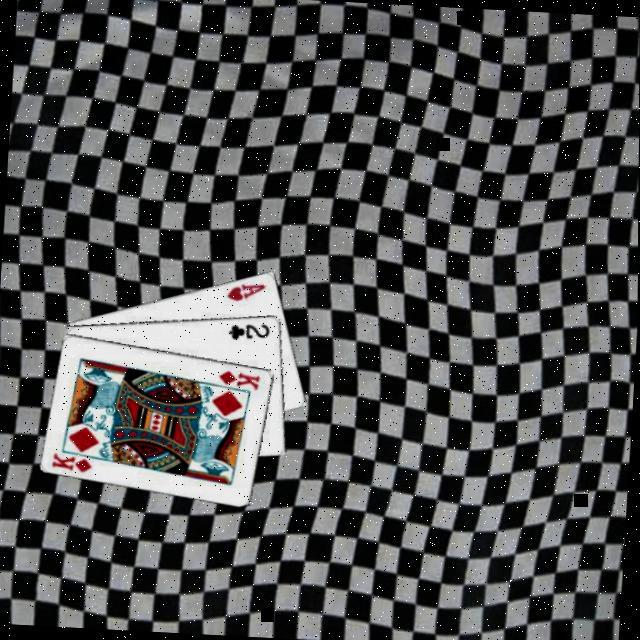2C: (227, 320, 274, 344)
AH: (225, 280, 270, 306)
KD: (217, 368, 265, 394), (50, 451, 97, 477)
